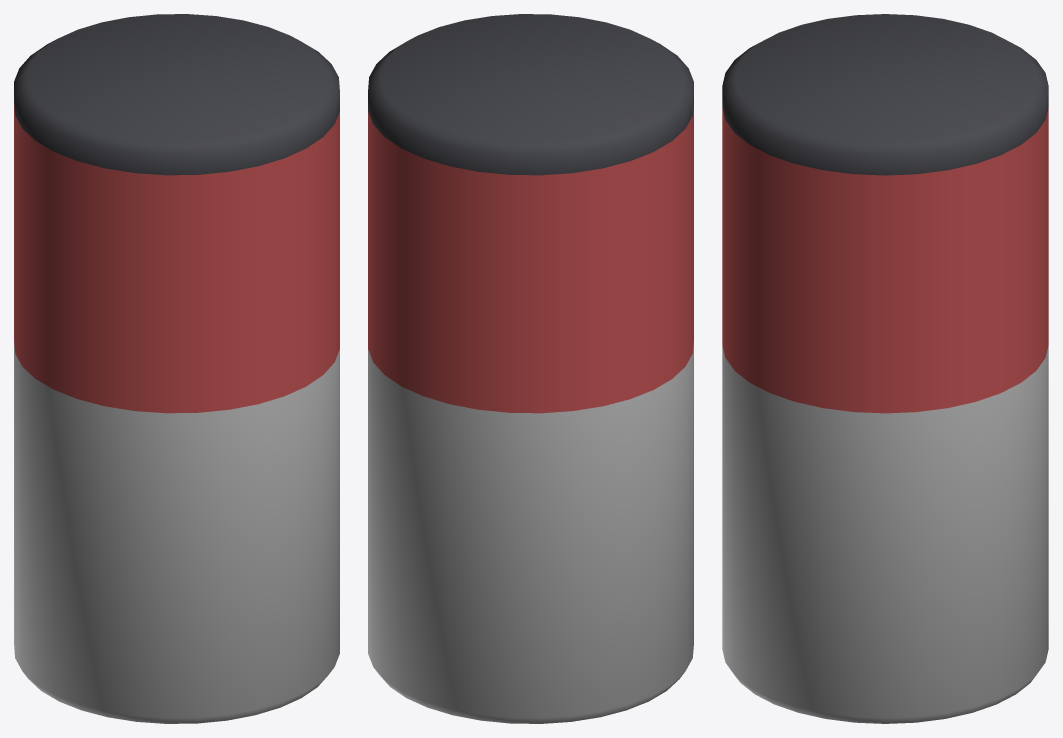
File: yellowtec-litt.glb
3 views of the same model, side by side, from view 1: azimuth 30°, elevation 25°; view 2: azimuth 150°, elevation 25°; view 3: azimuth 270°, elevation 25° (orthographic).
Parts seen in each view (by area): view 1: yellowtec-litt-body; view 2: yellowtec-litt-body; view 3: yellowtec-litt-body.
Boxes of the visible parts, x1=… form: yellowtec-litt-body: x1=14, y1=14, x2=339, y2=723; yellowtec-litt-body: x1=368, y1=14, x2=693, y2=723; yellowtec-litt-body: x1=722, y1=14, x2=1048, y2=723.
Size of the model in its own units: 0.051 by 0.1 by 0.051.
